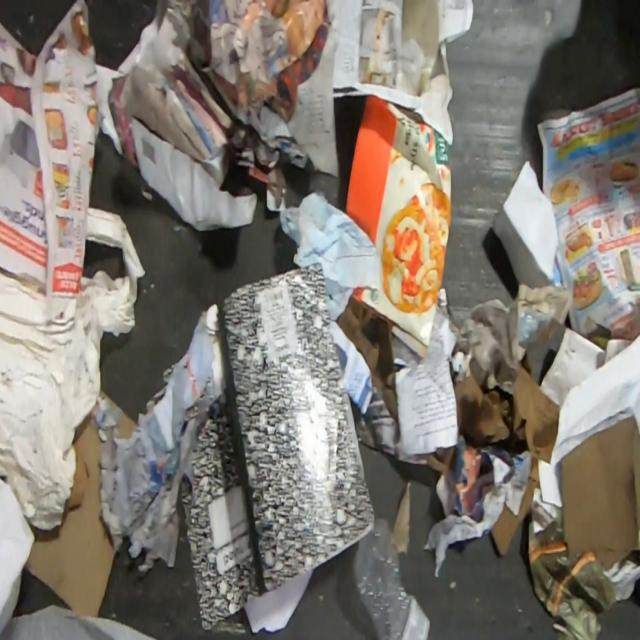cardboard: (346, 93, 453, 362), (22, 412, 118, 618), (99, 389, 140, 438)
rigid_plastic: (350, 517, 432, 640)
